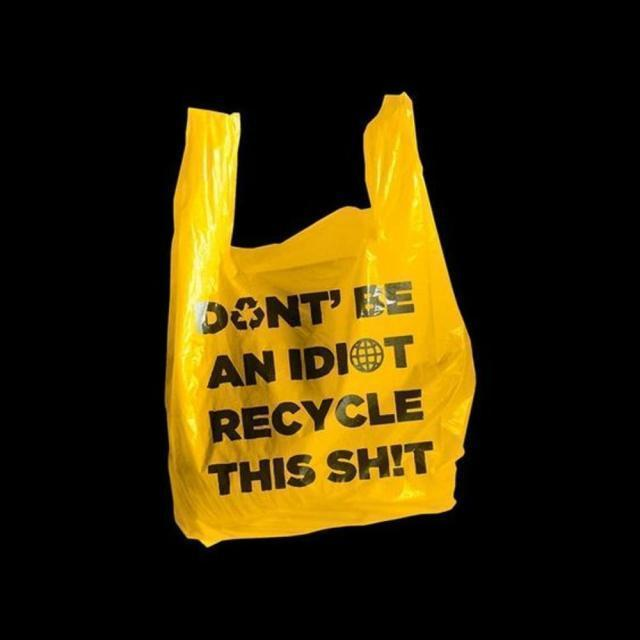Plastic_Bag: (168, 88, 476, 543)
